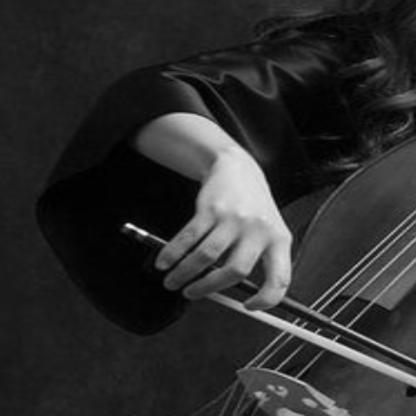good: (153, 166, 298, 318)
